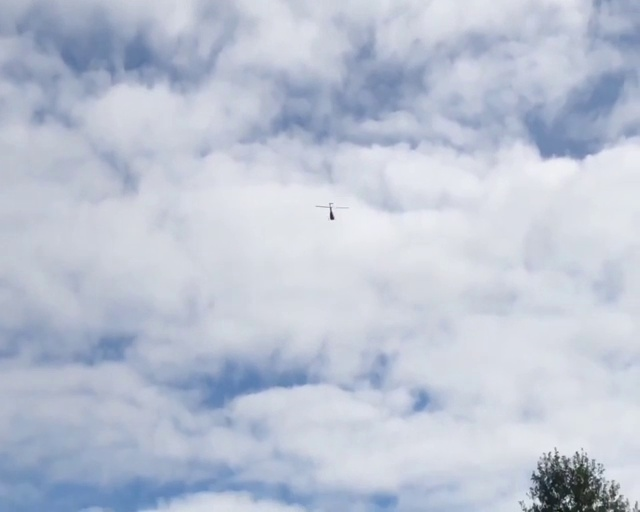HELICOPTER: (314, 201, 340, 220)
